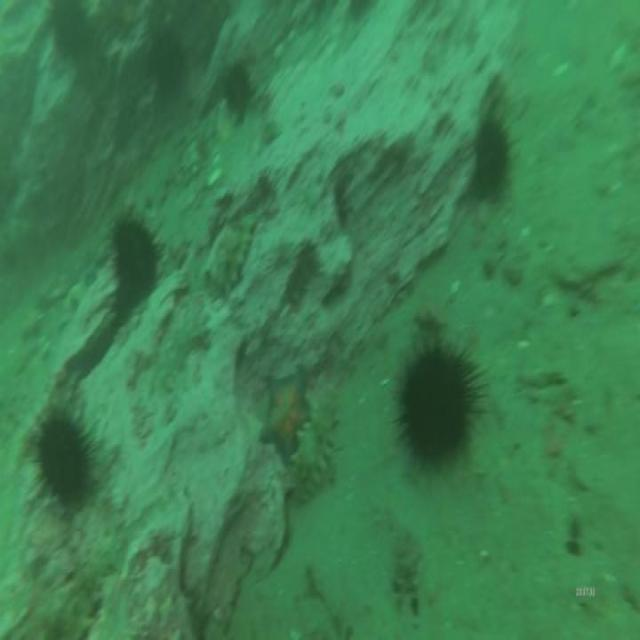echinus: (395, 341, 481, 471), (36, 411, 94, 510), (108, 209, 162, 308), (471, 110, 515, 206), (146, 18, 188, 100), (49, 1, 91, 64), (221, 52, 249, 120)
holothurian: (290, 372, 341, 508), (217, 208, 257, 292)
starfish: (252, 357, 316, 462)
